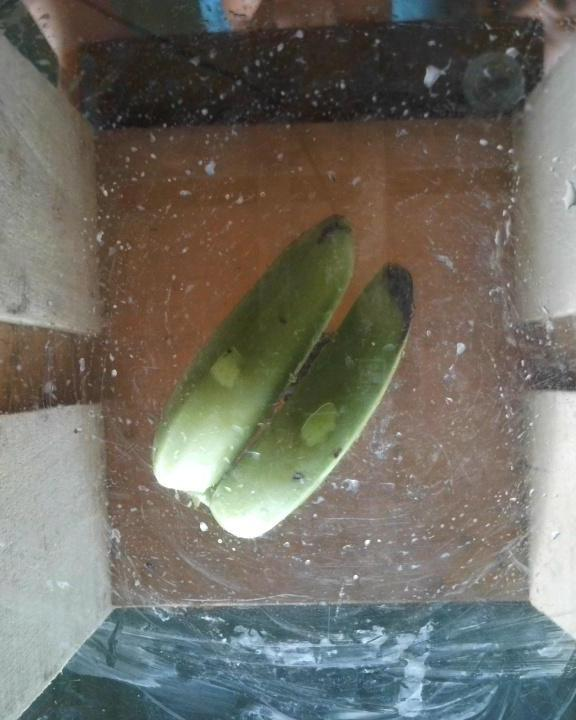CLASS B: (145, 207, 423, 548)
Class A: (386, 264, 412, 319), (317, 215, 346, 255), (282, 466, 313, 489), (328, 445, 346, 465)
